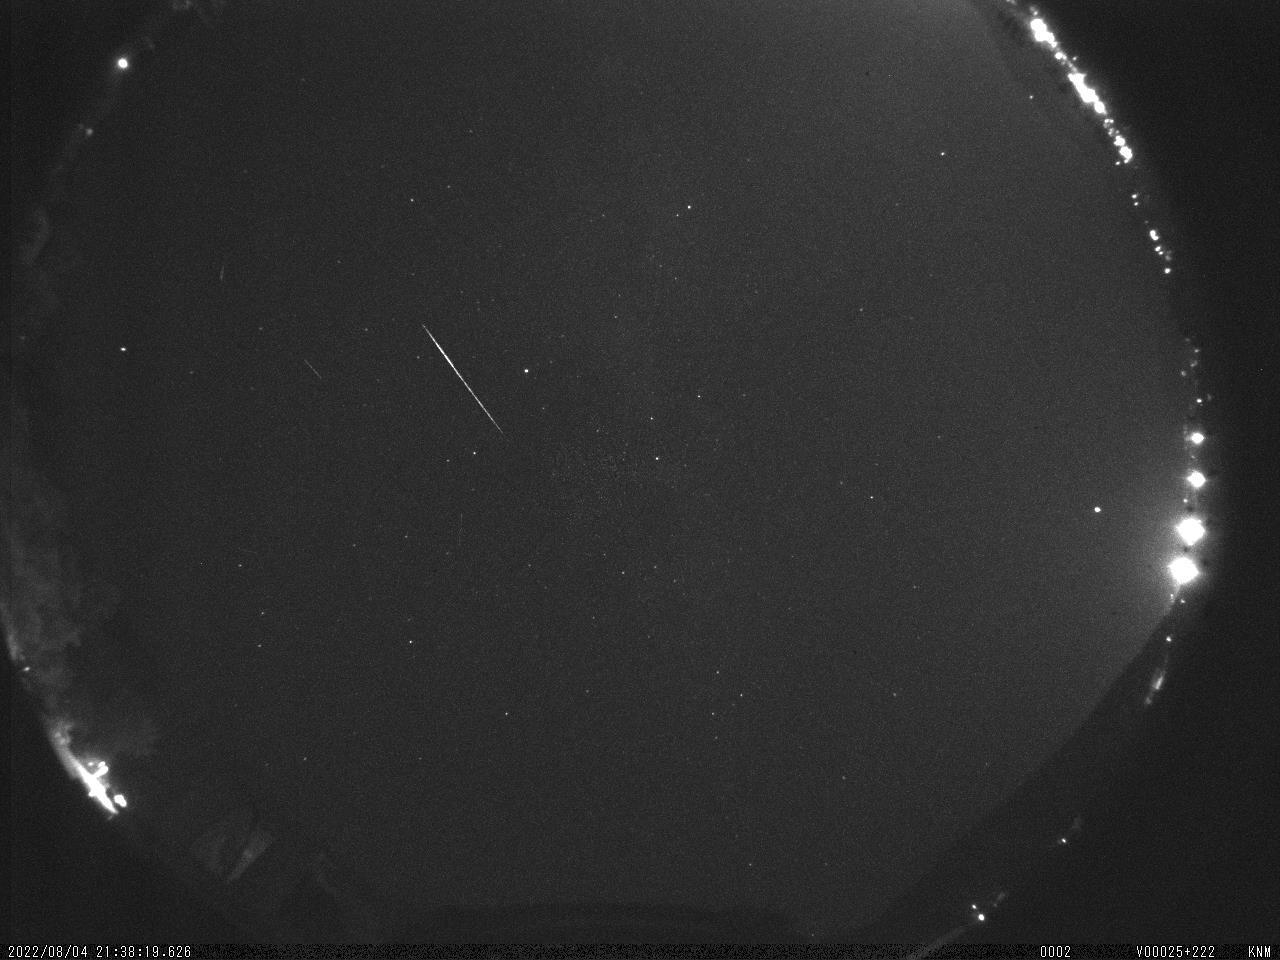Meteor: (419, 321, 505, 436), (301, 355, 325, 383)
